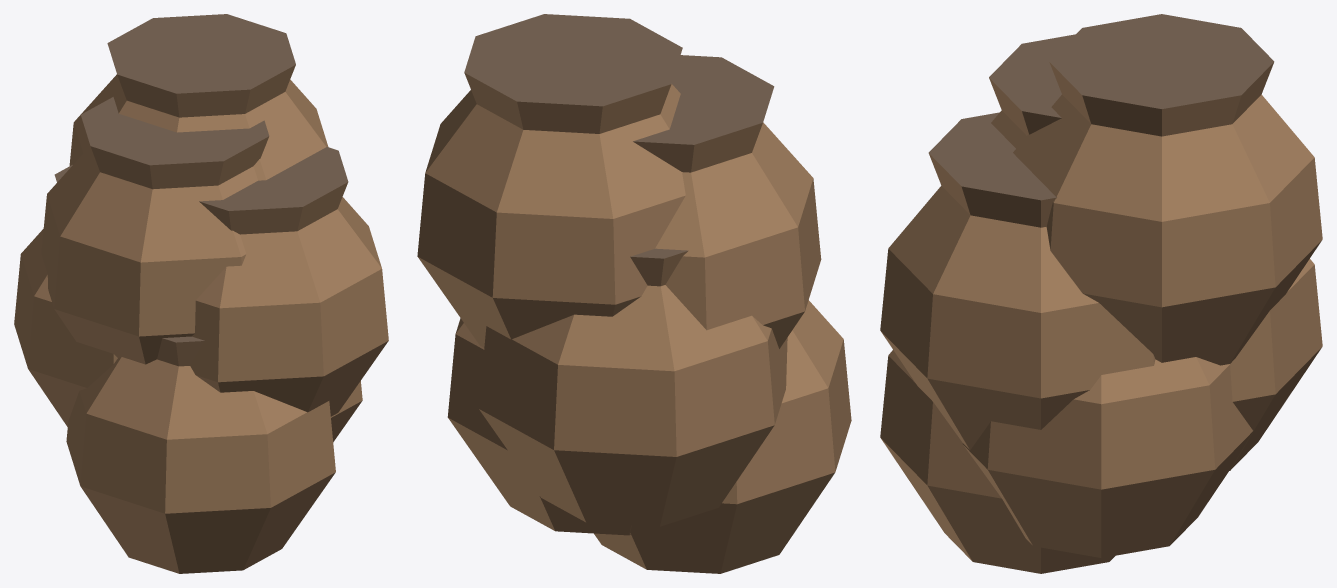
File: w3d_item_raw_pot_l.glb
The picture shows the model from 3 angles, left to right: view 1: azimuth 30°, elevation 25°; view 2: azimuth 150°, elevation 25°; view 3: azimuth 270°, elevation 25°; orthographic projection. The views are drawn at different scales.
Visible parts, largest first — view 1: item_008_raw_pot_l; view 2: item_008_raw_pot_l; view 3: item_008_raw_pot_l.
Boxes of the visible parts, x1,y1,x2,y2 form: item_008_raw_pot_l: [14, 14, 388, 573]; item_008_raw_pot_l: [417, 14, 851, 573]; item_008_raw_pot_l: [880, 14, 1322, 573].
Bounding box in the file's own units: 0.39 × 0.55 × 0.44.
